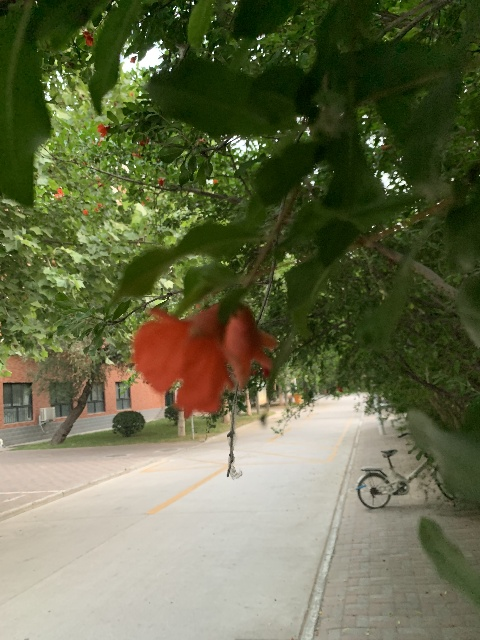flower: (131, 303, 230, 417), (223, 306, 277, 390), (97, 123, 110, 137), (82, 30, 93, 46)
